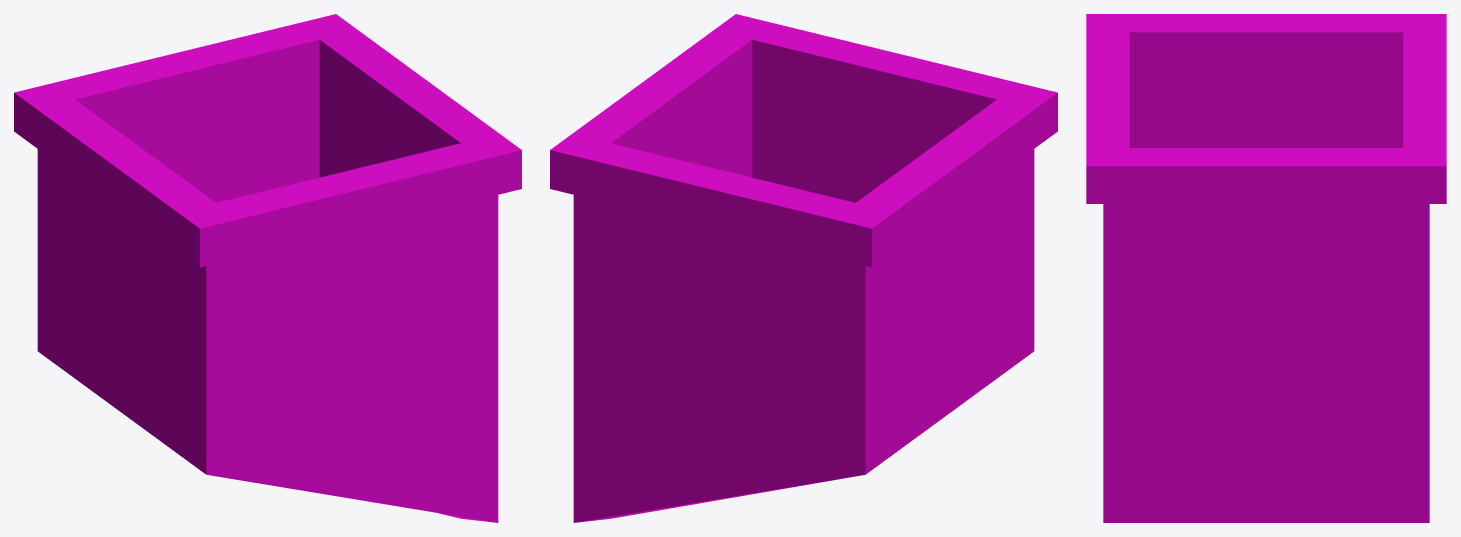
The model's file is Chimney.fbx.
3 views of the same model, side by side, from view 1: azimuth 30°, elevation 25°; view 2: azimuth 150°, elevation 25°; view 3: azimuth 270°, elevation 25° (orthographic). The views are drawn at different scales.
Visible parts, largest first — view 1: pCube4; view 2: pCube4; view 3: pCube4.
Boxes of the visible parts, x1,y1,x2,y2 form: pCube4: (14, 14, 521, 522); pCube4: (550, 14, 1057, 522); pCube4: (1086, 14, 1446, 522).
Size of the model in its own units: 3.29 by 3.67 by 3.29.
